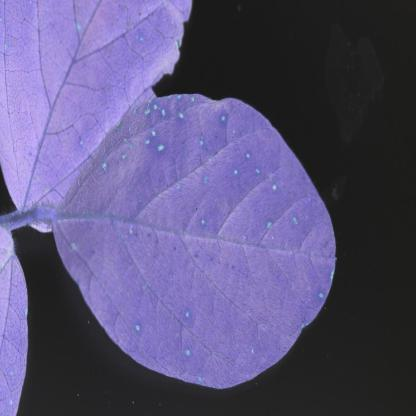soybean leaf: (49, 91, 337, 390)
